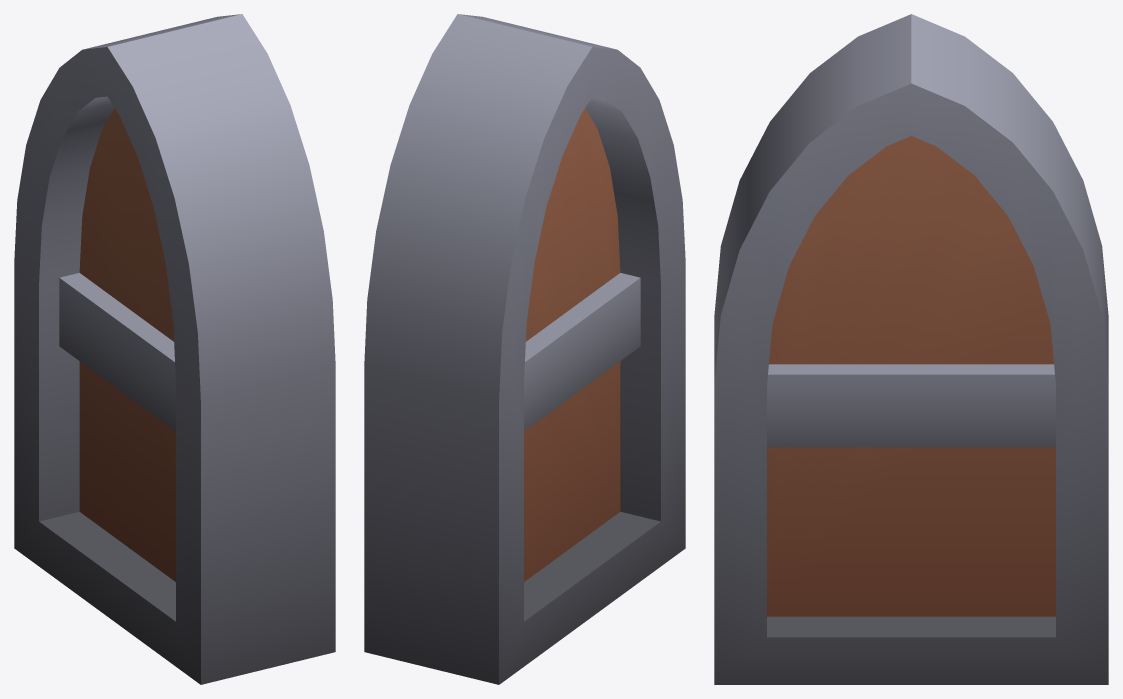
The model's file is door.glb.
The picture shows the model from 3 angles, left to right: view 1: azimuth 30°, elevation 25°; view 2: azimuth 150°, elevation 25°; view 3: azimuth 270°, elevation 25°; orthographic projection. The views are drawn at different scales.
Visible parts, largest first — view 1: door; view 2: door; view 3: door.
Part boxes in pixels (x1,y1,x2,y2): door: [14, 14, 335, 684]; door: [364, 14, 685, 684]; door: [714, 14, 1108, 684].
Size of the model in its own units: 0.5947 by 2.4 by 1.42.
